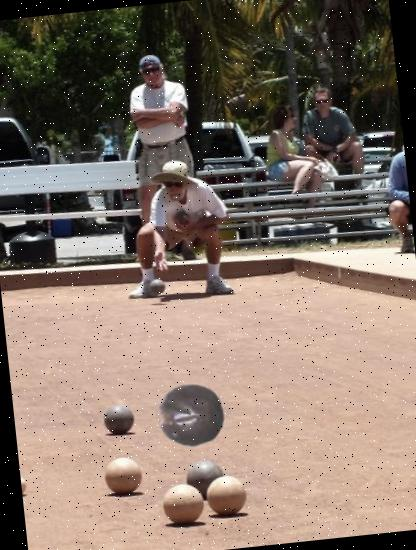Passion: (152, 377, 228, 453)
